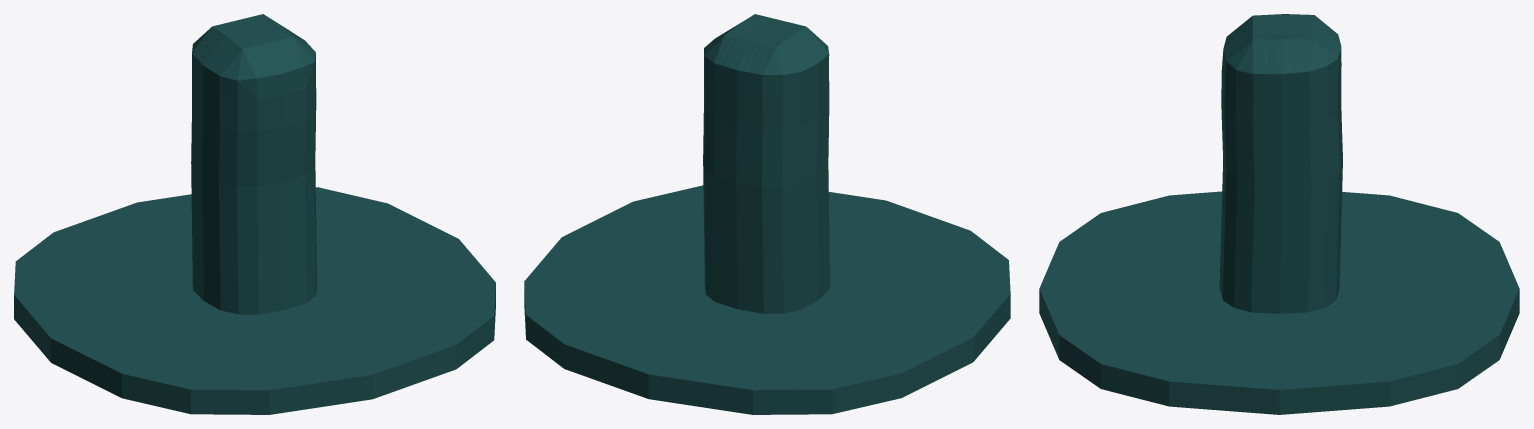
3 renders of one model, left to right at view 1: azimuth 30°, elevation 25°; view 2: azimuth 150°, elevation 25°; view 3: azimuth 270°, elevation 25°, orthographic.
Parts seen in each view (by area): view 1: Cube; view 2: Cube; view 3: Cube.
Part boxes in pixels (x1,y1,x2,y2): Cube: (14, 14, 495, 414); Cube: (524, 14, 1010, 414); Cube: (1039, 14, 1519, 414).
Size of the model in its own units: 2 by 1.32 by 2.
